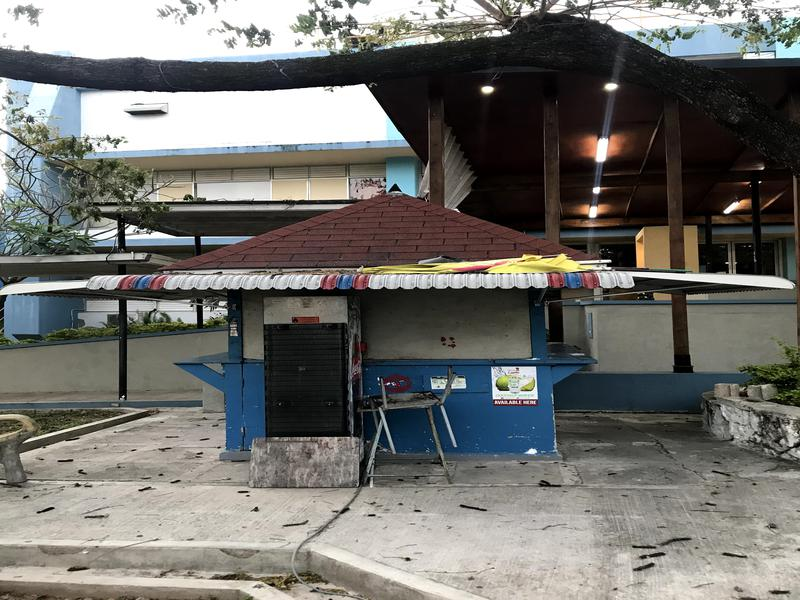18.0051667_-76.74944412_librarystall: (145, 176, 620, 474)
